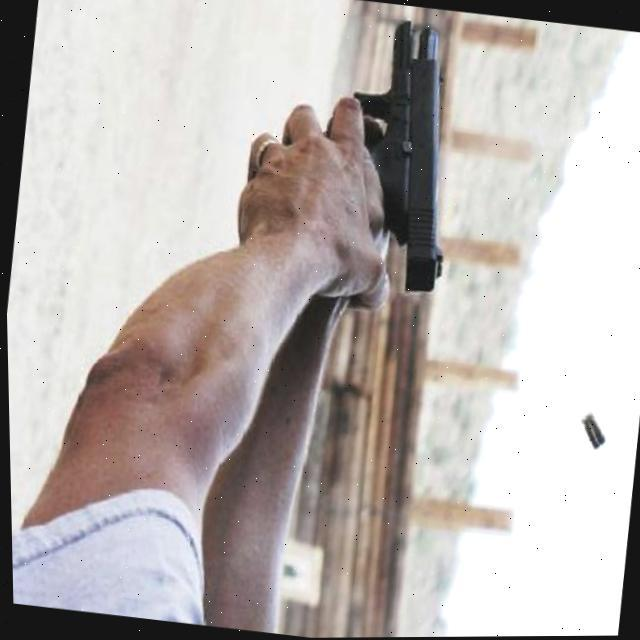gun: (326, 12, 474, 296)
